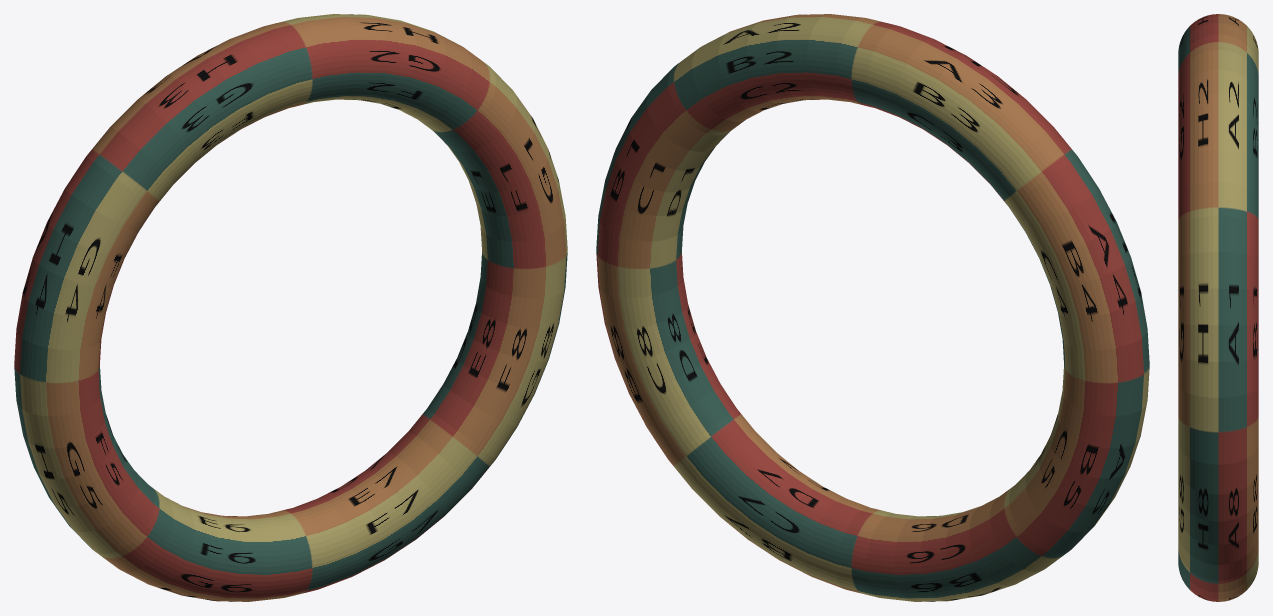
File: texture_torus_R14_r4.glb
3 views of the same model, side by side, from view 1: azimuth 30°, elevation 25°; view 2: azimuth 150°, elevation 25°; view 3: azimuth 270°, elevation 25° (orthographic). The views are drawn at different scales.
Parts seen in each view (by area): view 1: world; view 2: world; view 3: world.
Part boxes in pixels (box(x1,y1,x2,y2)): world: box(14, 14, 567, 601); world: box(596, 14, 1149, 601); world: box(1178, 14, 1258, 601).
Bounding box in the file's own units: 22.4 × 22.36 × 3.06.
1 material, 1 textured.
